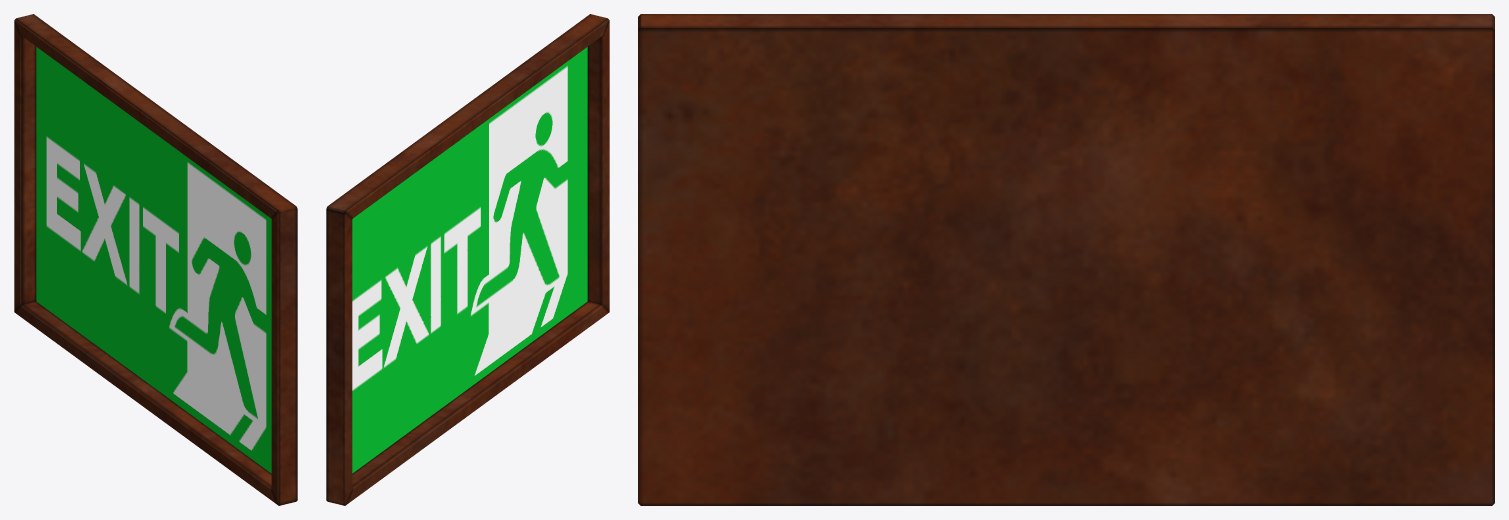
The model's file is exit_sign.glb.
3 renders of one model, left to right at view 1: azimuth 30°, elevation 25°; view 2: azimuth 150°, elevation 25°; view 3: azimuth 270°, elevation 25°, orthographic. The views are drawn at different scales.
Visible parts, largest first — view 1: Baked; view 2: Baked; view 3: Baked.
Boxes of the visible parts, x1,y1,x2,y2 form: Baked: [14, 14, 297, 505]; Baked: [326, 14, 609, 505]; Baked: [638, 14, 1494, 505].
Size of the model in its own units: 0.0131 by 0.1918 by 0.3117.
1 material, 1 textured.
